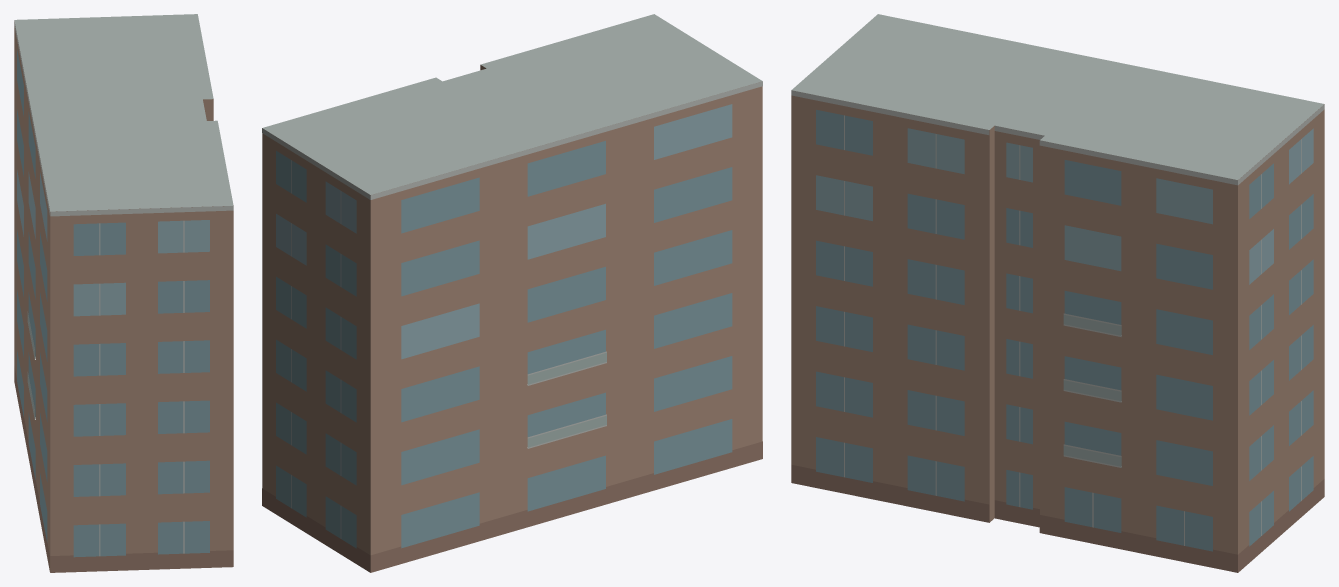
The model's file is survey-upis-32989033.glb.
The picture shows the model from 3 angles, left to right: view 1: azimuth 30°, elevation 25°; view 2: azimuth 150°, elevation 25°; view 3: azimuth 270°, elevation 25°; orthographic projection. The views are drawn at different scales.
Parts seen in each view (by area): view 1: survey-upis-32989033.tmp; view 2: survey-upis-32989033.tmp; view 3: survey-upis-32989033.tmp.
Part boxes in pixels (x1,y1,x2,y2): survey-upis-32989033.tmp: (14, 14, 233, 572); survey-upis-32989033.tmp: (262, 14, 762, 572); survey-upis-32989033.tmp: (791, 14, 1324, 572).
Bounding box in the file's own units: 16.61 × 18.3 × 22.53.
